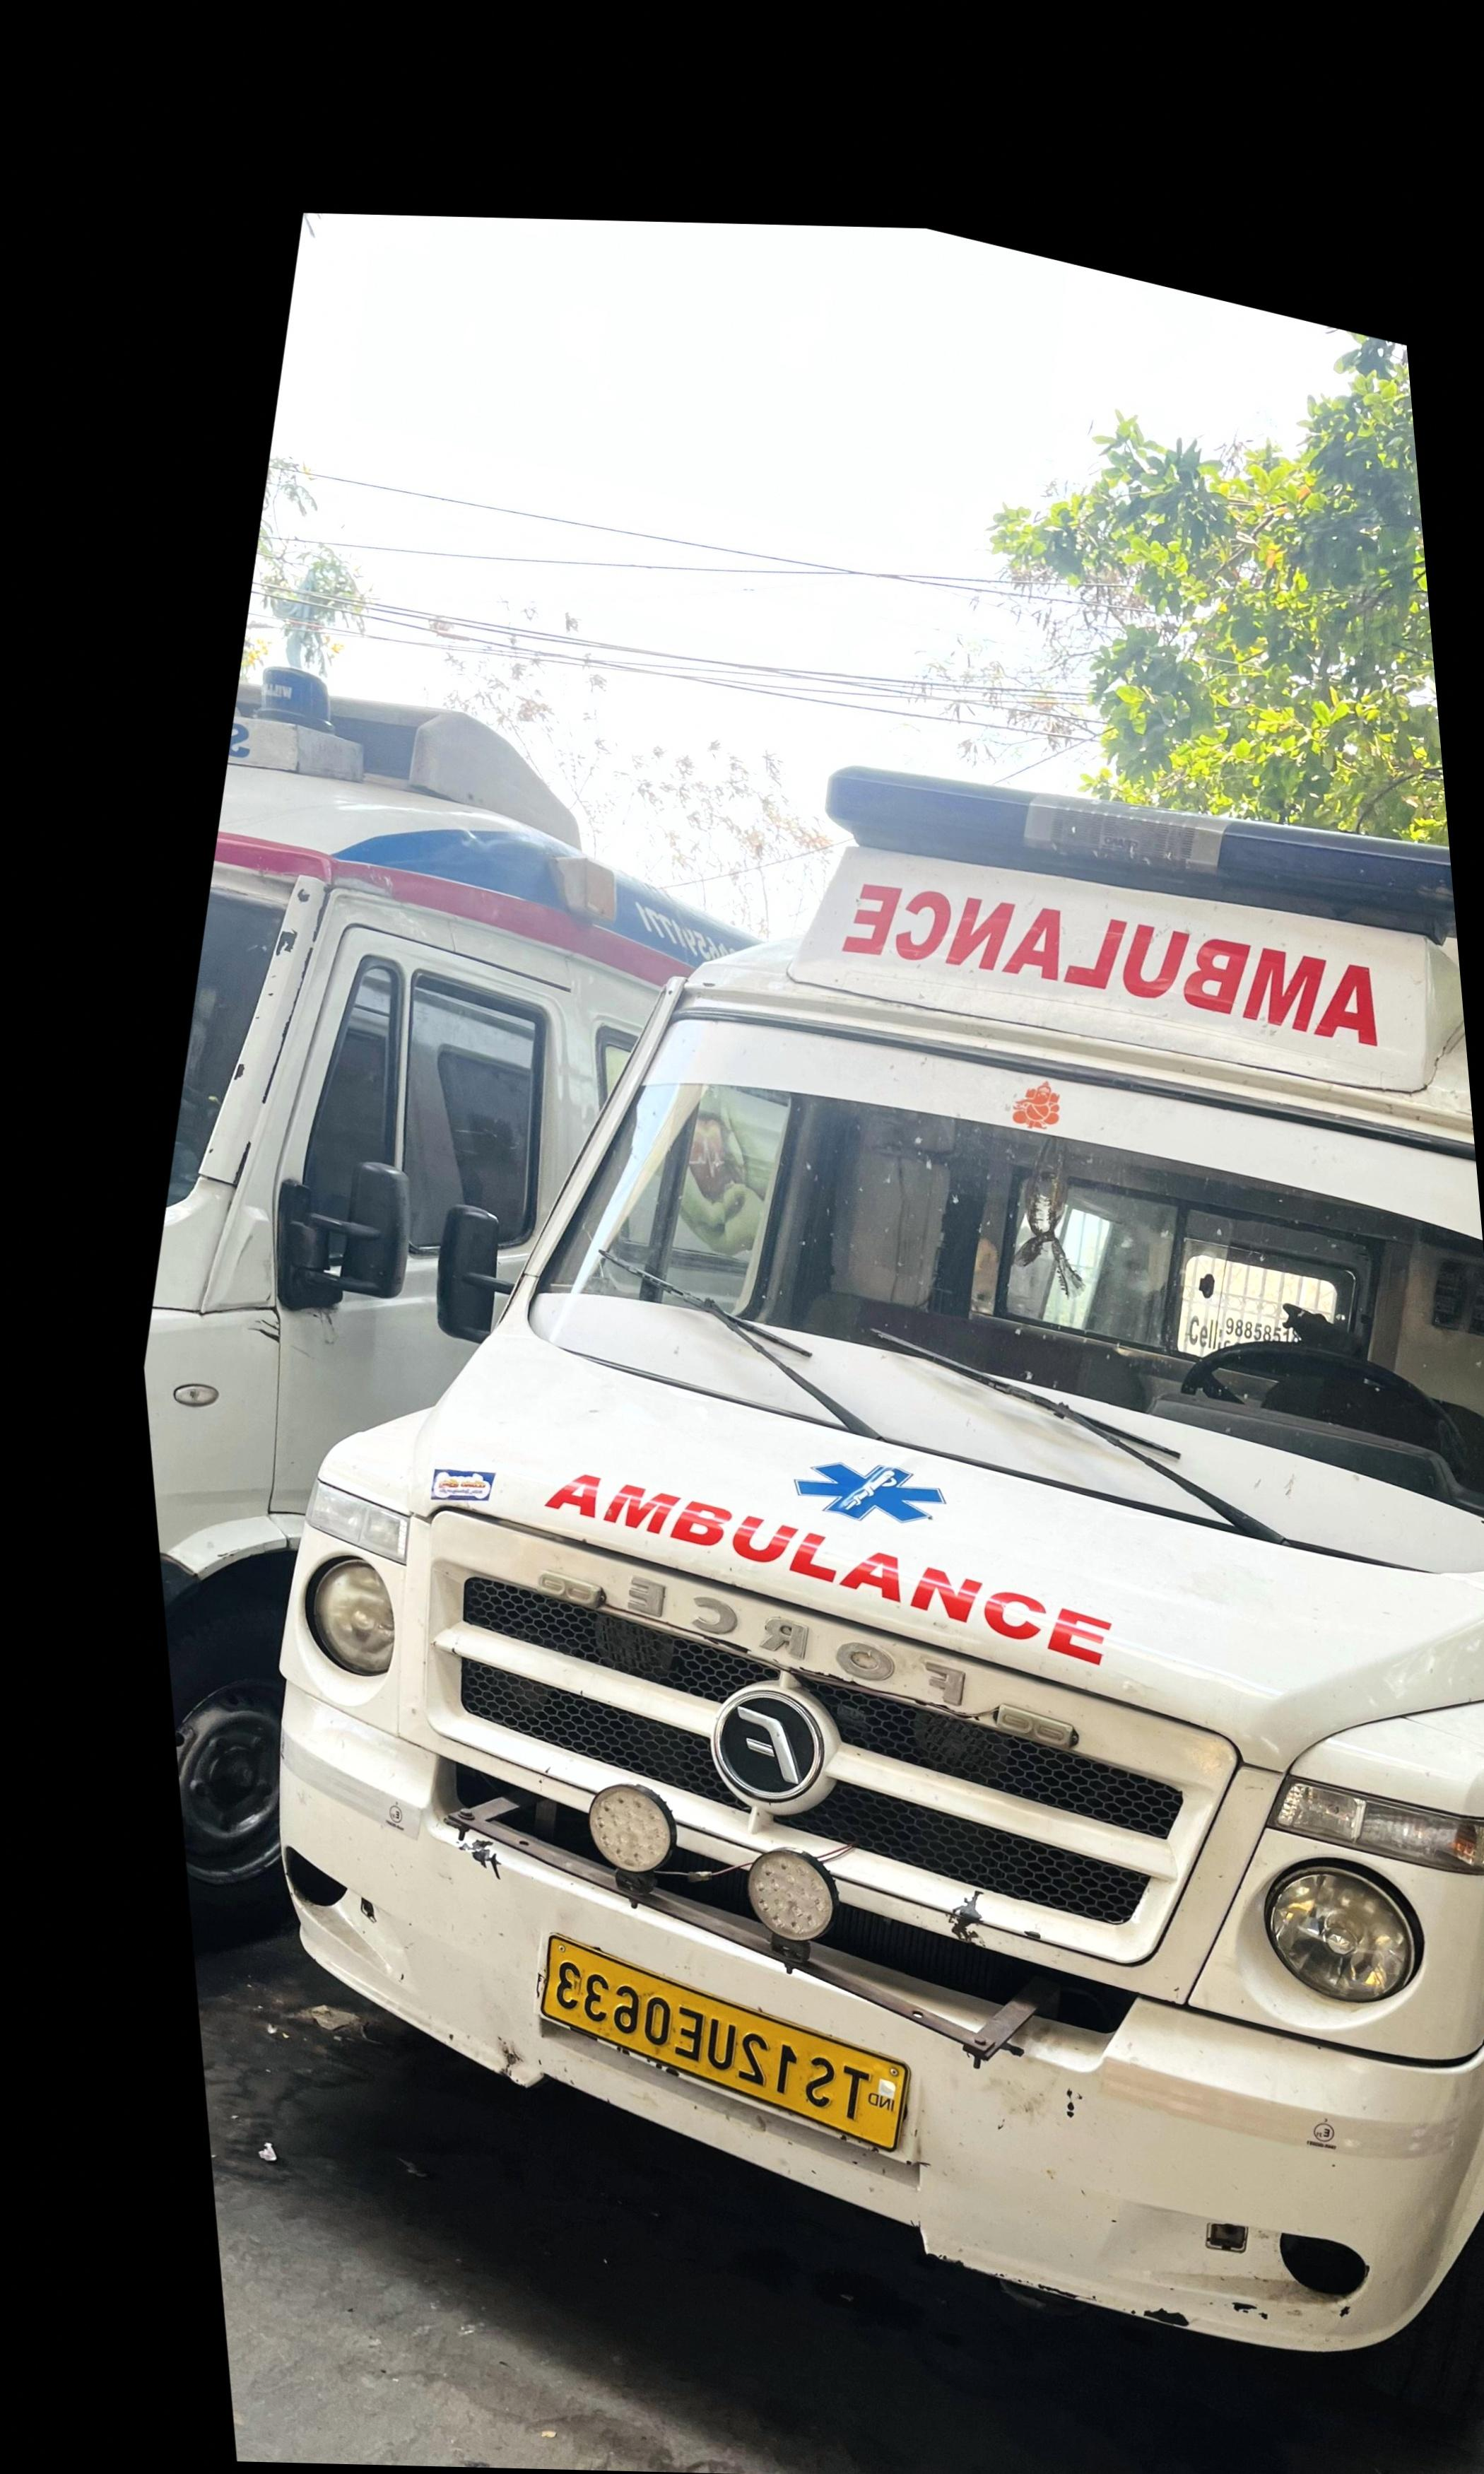ambulance: (279, 788, 1484, 2350)
